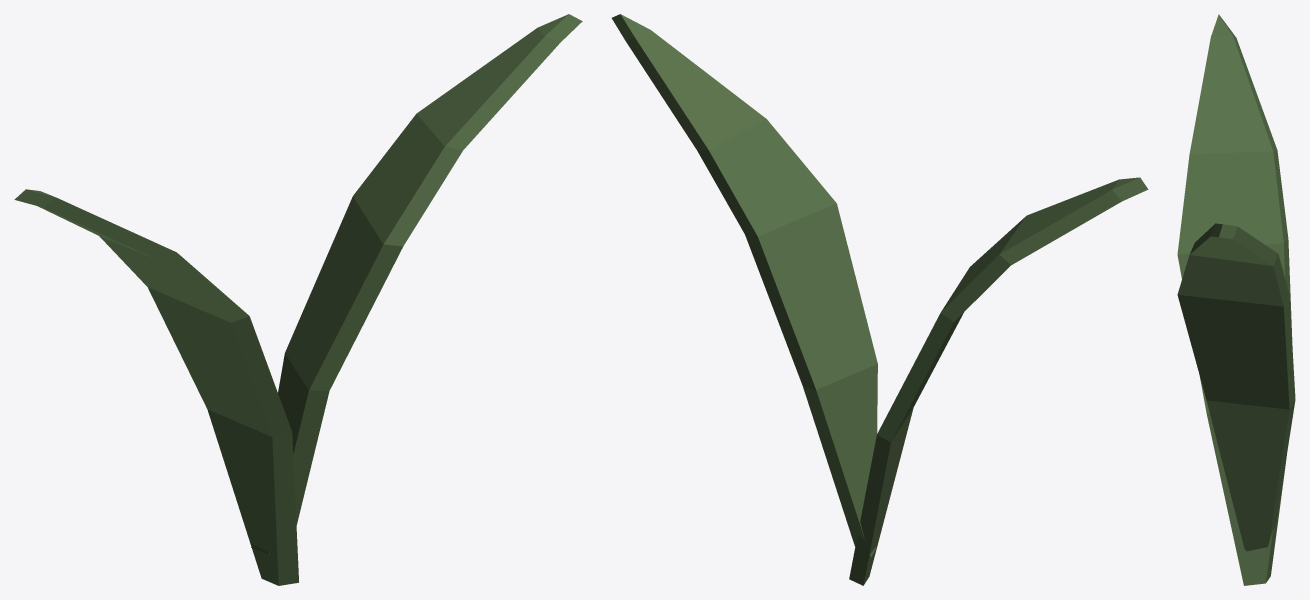
Rendered from Flower_1.glb.
3 renders of one model, left to right at view 1: azimuth 30°, elevation 25°; view 2: azimuth 150°, elevation 25°; view 3: azimuth 270°, elevation 25°, orthographic. The views are drawn at different scales.
Parts seen in each view (by area): view 1: Flower_1; view 2: Flower_1; view 3: Flower_1.
Boxes of the visible parts, box(x1,y1,x2,y2) form: Flower_1: box(14, 14, 582, 585); Flower_1: box(611, 14, 1148, 585); Flower_1: box(1177, 14, 1295, 585).
Bounding box in the file's own units: 0.1267 × 0.1099 × 0.0245.
